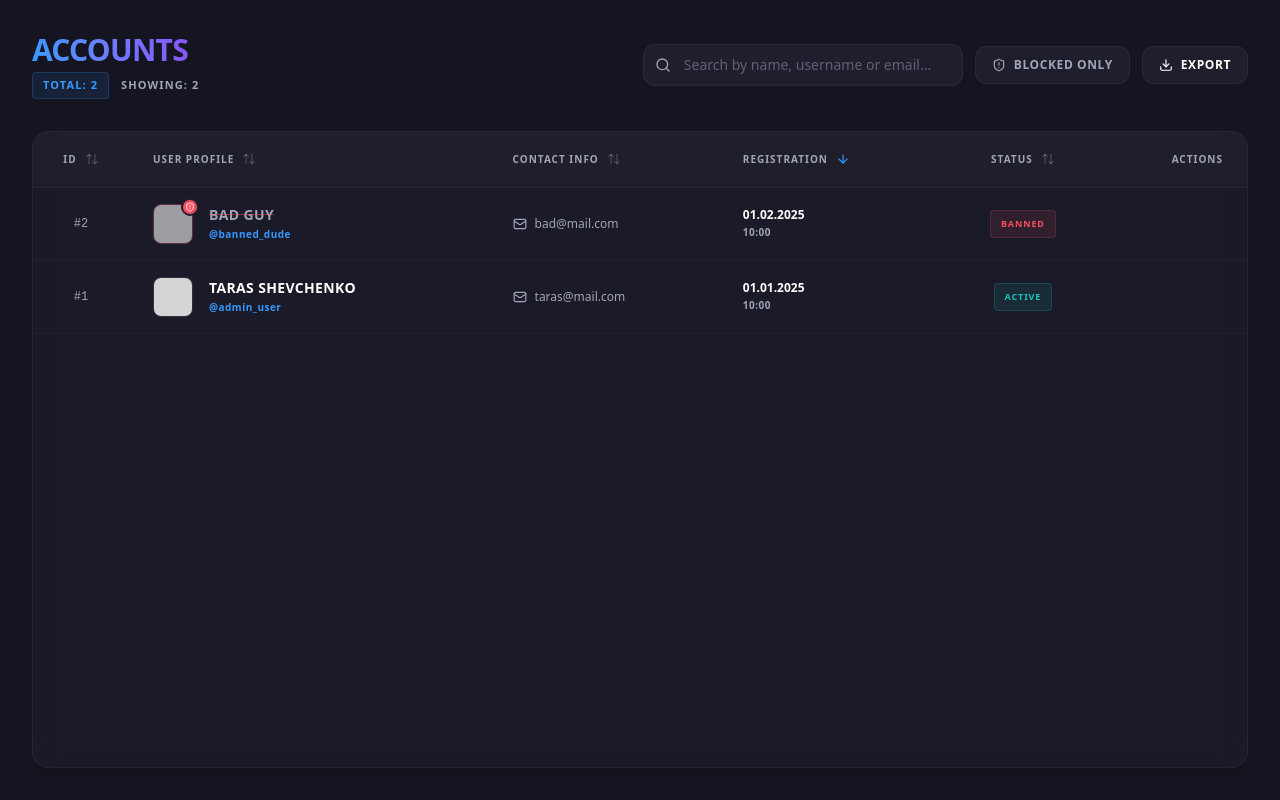
Test: Users Component › opens profile modal and fetches details on row click
expect the heading "Taras Shevchenko" is shown: met, box [209, 278, 356, 298]
Click the text "Taras Shevchenko" at (640, 296), box [33, 260, 1247, 333]
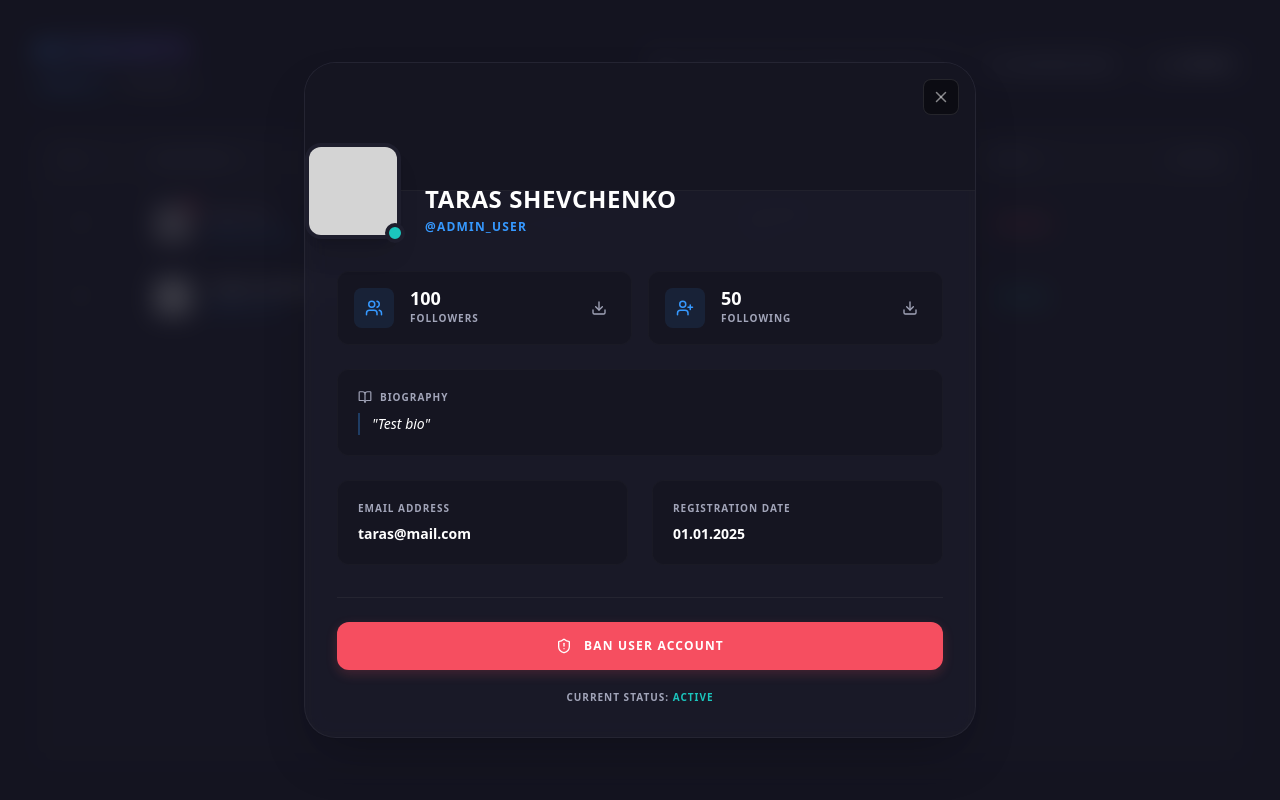
expect the text "\"Test bio\"" is shown: met, box [358, 413, 922, 435]
expect the text "100" is shown: met, box [410, 286, 441, 310]
